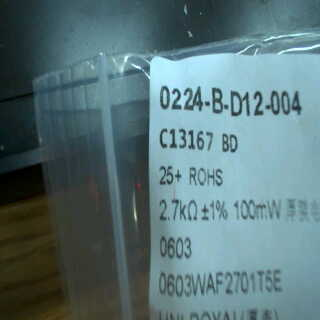2.7kR: (158, 197, 200, 226)
